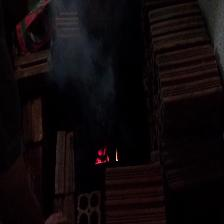fire: (92, 143, 120, 166)
